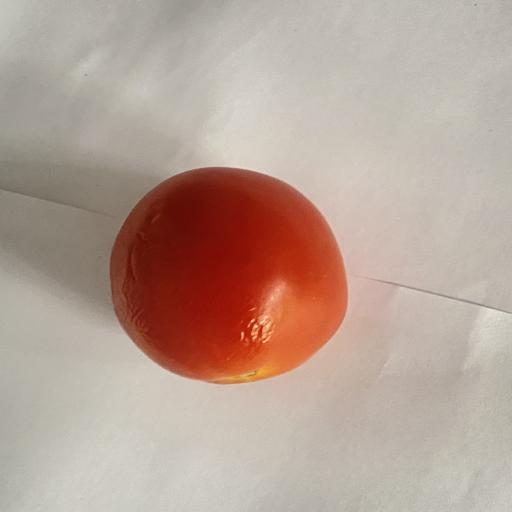spoiled: (110, 167, 347, 383)
